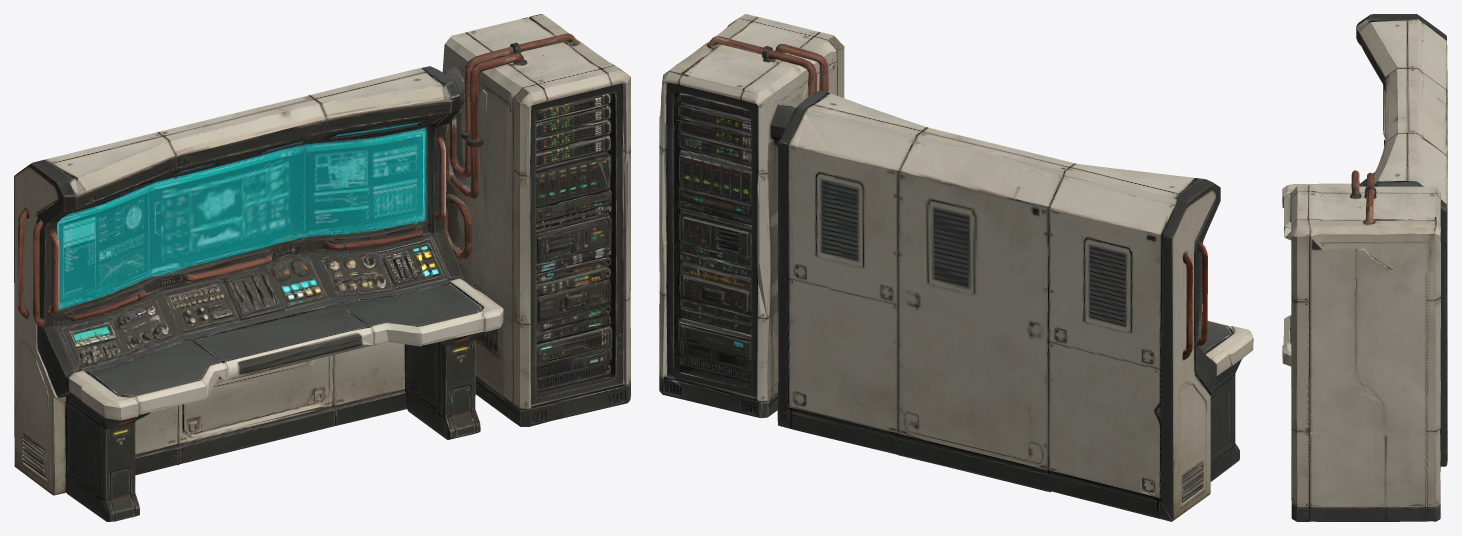
Rendered from analysis-console.glb.
3 renders of one model, left to right at view 1: azimuth 30°, elevation 25°; view 2: azimuth 150°, elevation 25°; view 3: azimuth 270°, elevation 25°, orthographic. The views are drawn at different scales.
Parts seen in each view (by area): view 1: analysis_console_000; view 2: analysis_console_000; view 3: analysis_console_000.
Boxes of the visible parts, x1,y1,x2,y2 form: analysis_console_000: (14,14,630,521); analysis_console_000: (659,14,1253,521); analysis_console_000: (1282,14,1447,521).
Bounding box in the file's own units: 3.6 × 2.19 × 1.08.
Materials: 1 (1 with a texture image).
